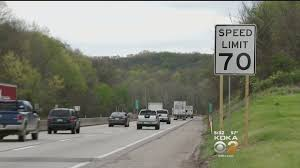speedLimit70: (213, 22, 257, 77)
